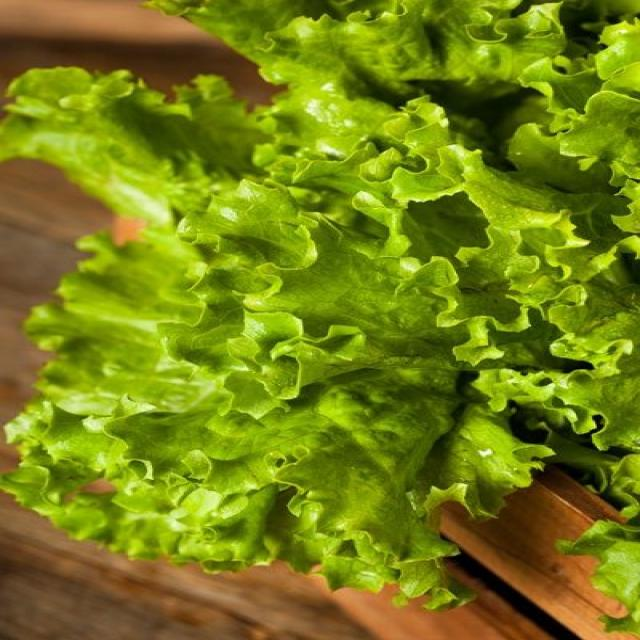lettuce: (0, 0, 639, 632)
